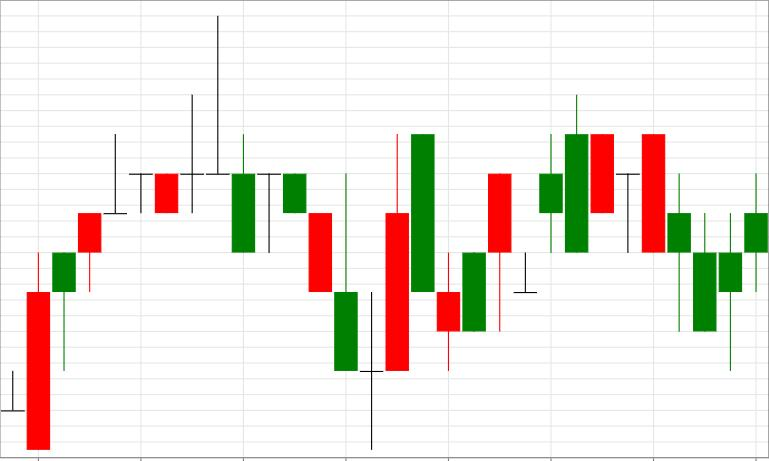morning_star_rise: (258, 134, 409, 451)
